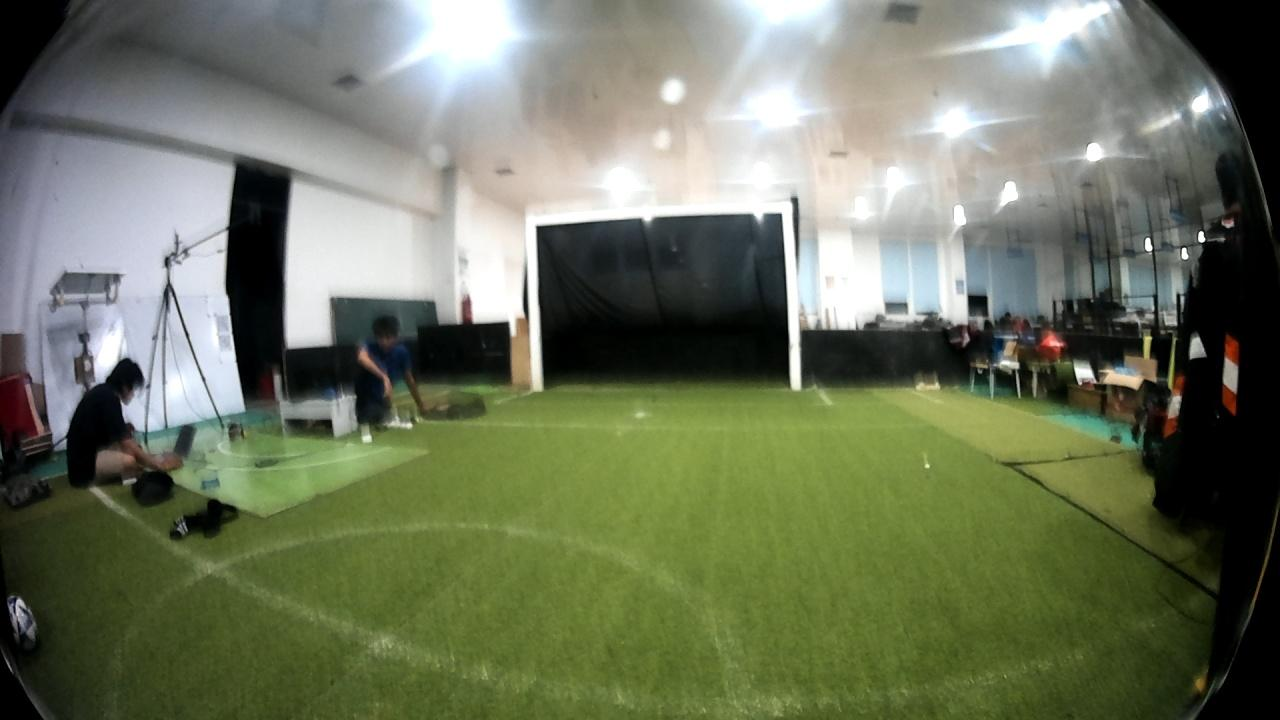ball: (0, 590, 47, 654)
